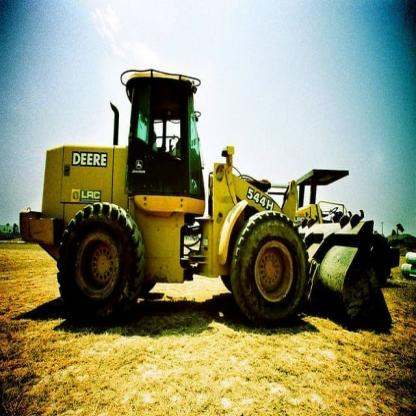bull_dozer/loader/grader: (13, 62, 413, 347)
